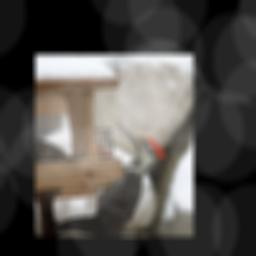Woodpecker: (49, 124, 173, 236)
